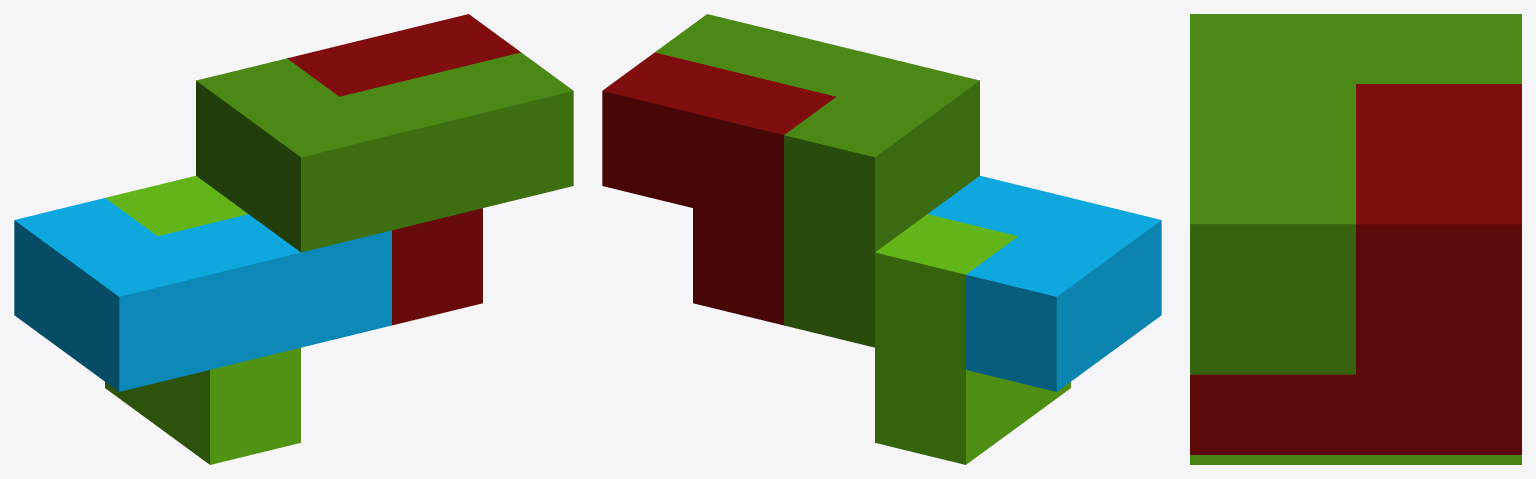
3 views of the same model, side by side, from view 1: azimuth 30°, elevation 25°; view 2: azimuth 150°, elevation 25°; view 3: azimuth 270°, elevation 25° (orthographic). The views are drawn at different scales.
Parts seen in each view (by area): view 1: mergedBlocks(Clone); view 2: mergedBlocks(Clone); view 3: mergedBlocks(Clone).
Boxes of the visible parts, x1=… form: mergedBlocks(Clone): x1=14, y1=14, x2=573, y2=464; mergedBlocks(Clone): x1=602, y1=14, x2=1161, y2=464; mergedBlocks(Clone): x1=1190, y1=14, x2=1521, y2=464.
Bounding box in the file's own units: 5 × 3 × 2.
Materials: 4 (4 with a texture image).
